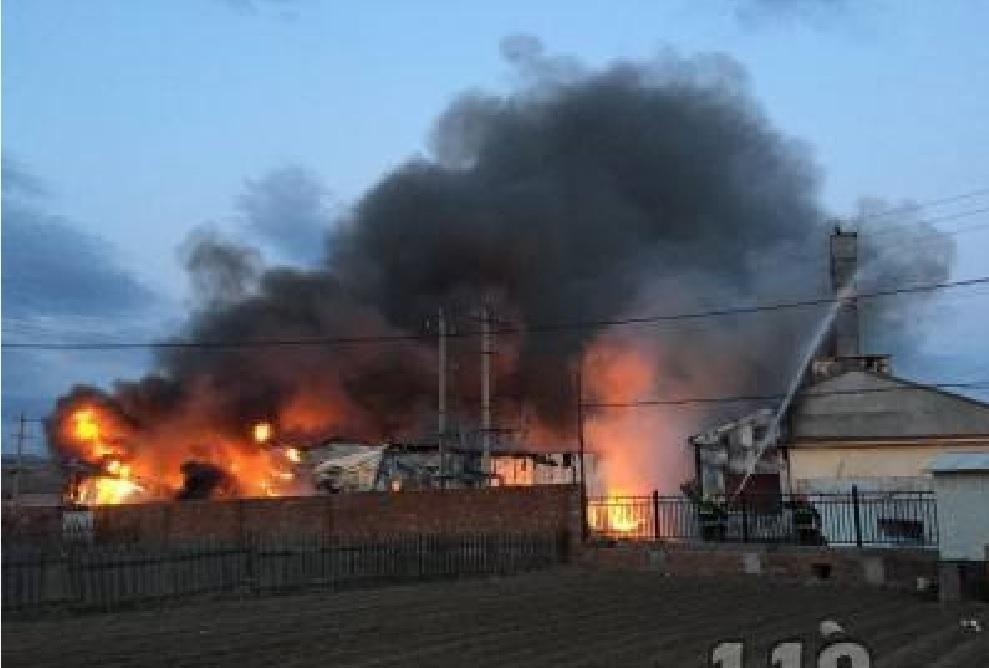fire: (85, 409, 308, 499), (60, 401, 157, 505), (592, 478, 647, 535), (493, 454, 533, 483)
